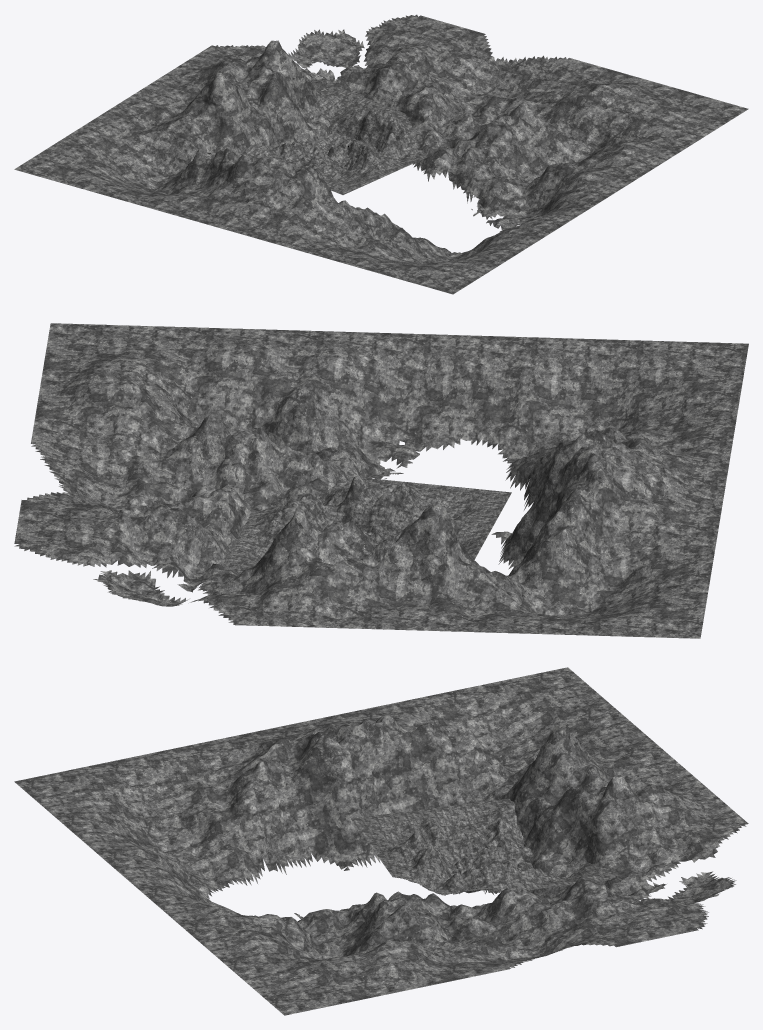
The picture shows the model from 3 angles, top to bottom: view 1: azimuth 30°, elevation 25°; view 2: azimuth 150°, elevation 25°; view 3: azimuth 270°, elevation 25°; orthographic projection. The views are drawn at different scales.
Visible parts, largest first — view 1: Landscape.001, Landscape.002; view 2: Landscape.001, Landscape.002; view 3: Landscape.001, Landscape.002.
Boxes of the visible parts, x1,y1,x2,y2 form: Landscape.001: (14,14,748,294); Landscape.002: (239,86,427,194); Landscape.001: (14,323,748,638); Landscape.002: (222,475,511,570); Landscape.001: (14,667,748,1015); Landscape.002: (351,798,615,895).
Bounding box in the file's own units: 2843 × 468 × 2534.
3 materials, 2 textured.
